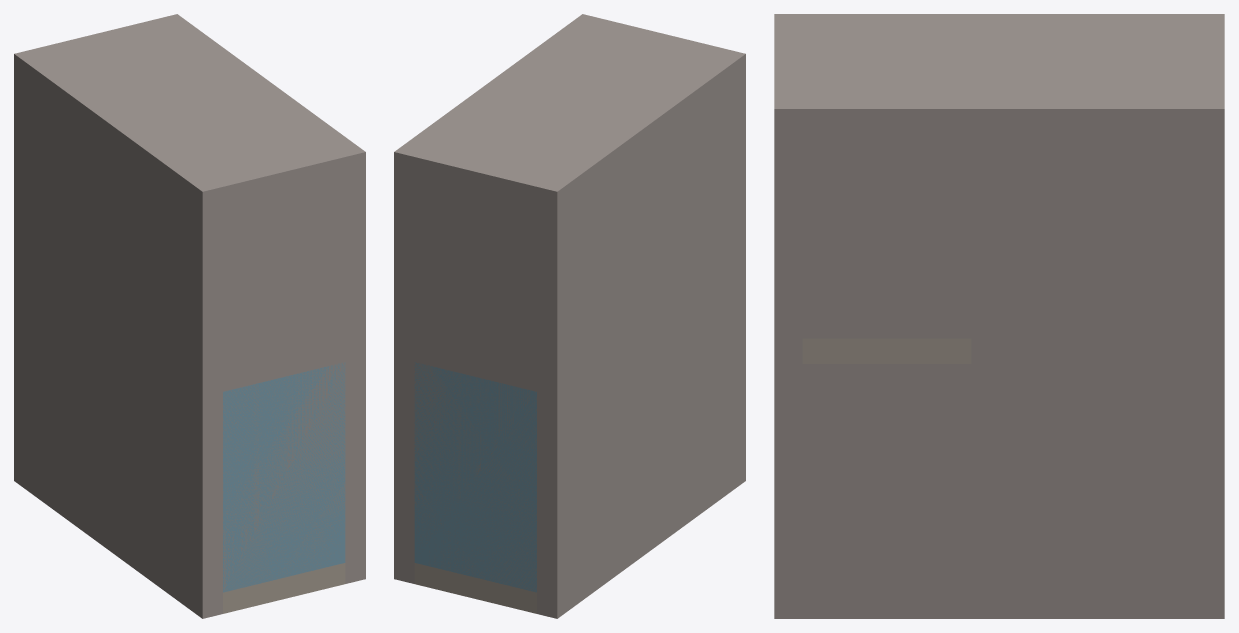
File: rill-mirror.glb
3 views of the same model, side by side, from view 1: azimuth 30°, elevation 25°; view 2: azimuth 150°, elevation 25°; view 3: azimuth 270°, elevation 25° (orthographic). The views are drawn at different scales.
Visible parts, largest first — view 1: rock_1, rock_11, rock_5, water_1, plug_rill_south, plug_rill_south.001, rock_3, rock_7, rock_9, cave-floor_1; view 2: rock_1, rock_11, rock_5, water_1, plug_rill_north, plug_rill_north.001, rock_2, rock_6, rock_8, cave-floor_1; view 3: rock_2, rock_11, rock_6, rock_4, plug_east, rock_10, rock_3, rock_7, cave-floor_2.
Part boxes in pixels (left/top/right/bottom): rock_1: left=14, top=246, right=222, bottom=618; rock_11: left=14, top=14, right=365, bottom=212; rock_5: left=14, top=75, right=222, bottom=383; water_1: left=223, top=362, right=345, bottom=592; plug_rill_south: left=223, top=200, right=345, bottom=378; plug_rill_south.001: left=223, top=349, right=345, bottom=592; rock_3: left=345, top=344, right=365, bottom=583; rock_7: left=345, top=173, right=365, bottom=348; rock_9: left=223, top=178, right=345, bottom=229; cave-floor_1: left=223, top=563, right=345, bottom=613; rock_1: left=537, top=246, right=745, bottom=618; rock_11: left=394, top=14, right=745, bottom=212; rock_5: left=537, top=75, right=745, bottom=383; water_1: left=414, top=362, right=536, bottom=592; plug_rill_north: left=414, top=200, right=536, bottom=378; plug_rill_north.001: left=414, top=349, right=536, bottom=592; rock_2: left=394, top=344, right=414, bottom=583; rock_6: left=394, top=173, right=414, bottom=348; rock_8: left=414, top=178, right=536, bottom=229; cave-floor_1: left=414, top=563, right=536, bottom=613; rock_2: left=971, top=338, right=1224, bottom=618; rock_11: left=774, top=14, right=1224, bottom=134; rock_6: left=971, top=134, right=1224, bottom=338; rock_4: left=802, top=364, right=971, bottom=618; plug_east: left=802, top=185, right=971, bottom=338; rock_10: left=802, top=134, right=971, bottom=185; rock_3: left=774, top=338, right=802, bottom=618; rock_7: left=774, top=134, right=802, bottom=338; cave-floor_2: left=802, top=338, right=971, bottom=363.
Bounding box in the file's own units: 4 × 10 × 8.
